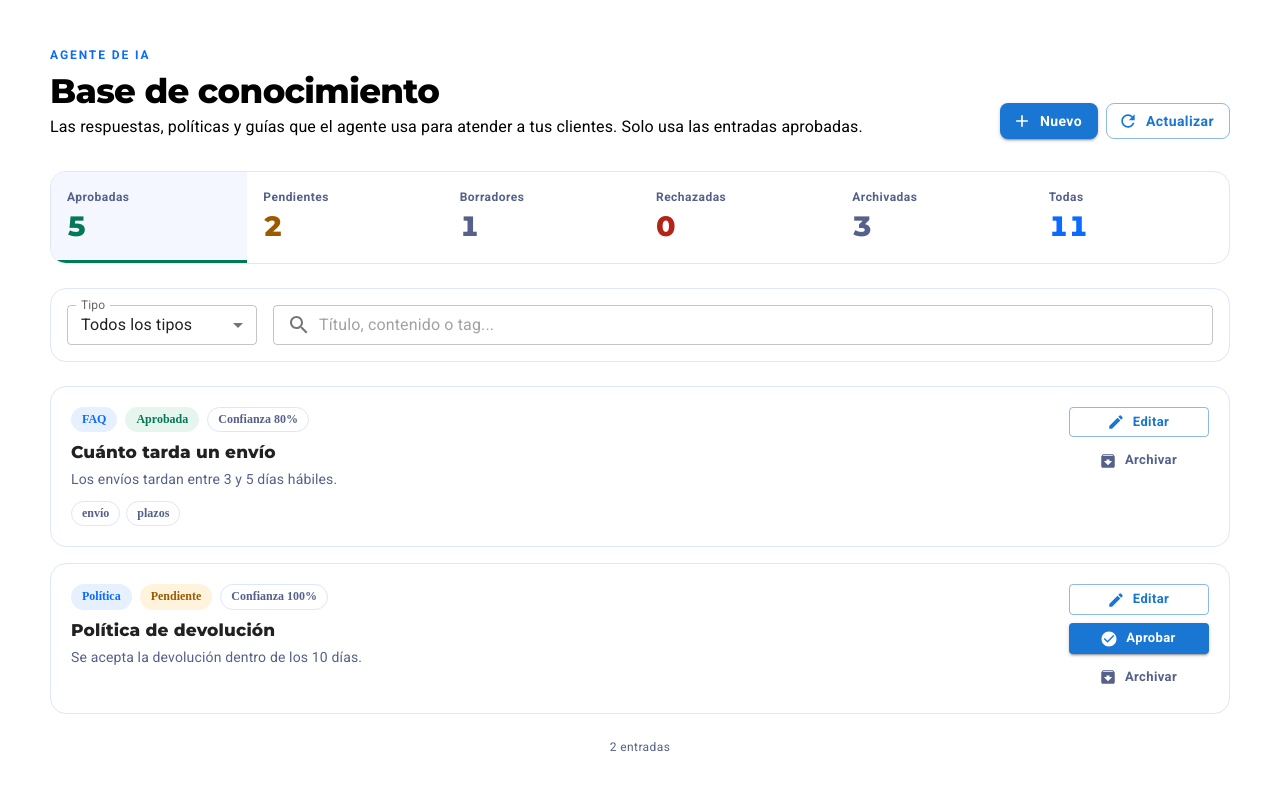
Test: Conocimiento · consulta › «Limpiar filtros» solo aparece con filtros y vuelve a lo aprobado, de todos los tipos, sin búsqueda
expect the button "Limpiar filtros" is not shown: met
What coordinates should you click on to do the following:
click the button "Pendientes 2"
I would click on:
 (345, 217)
Its box is [247,172,444,262].
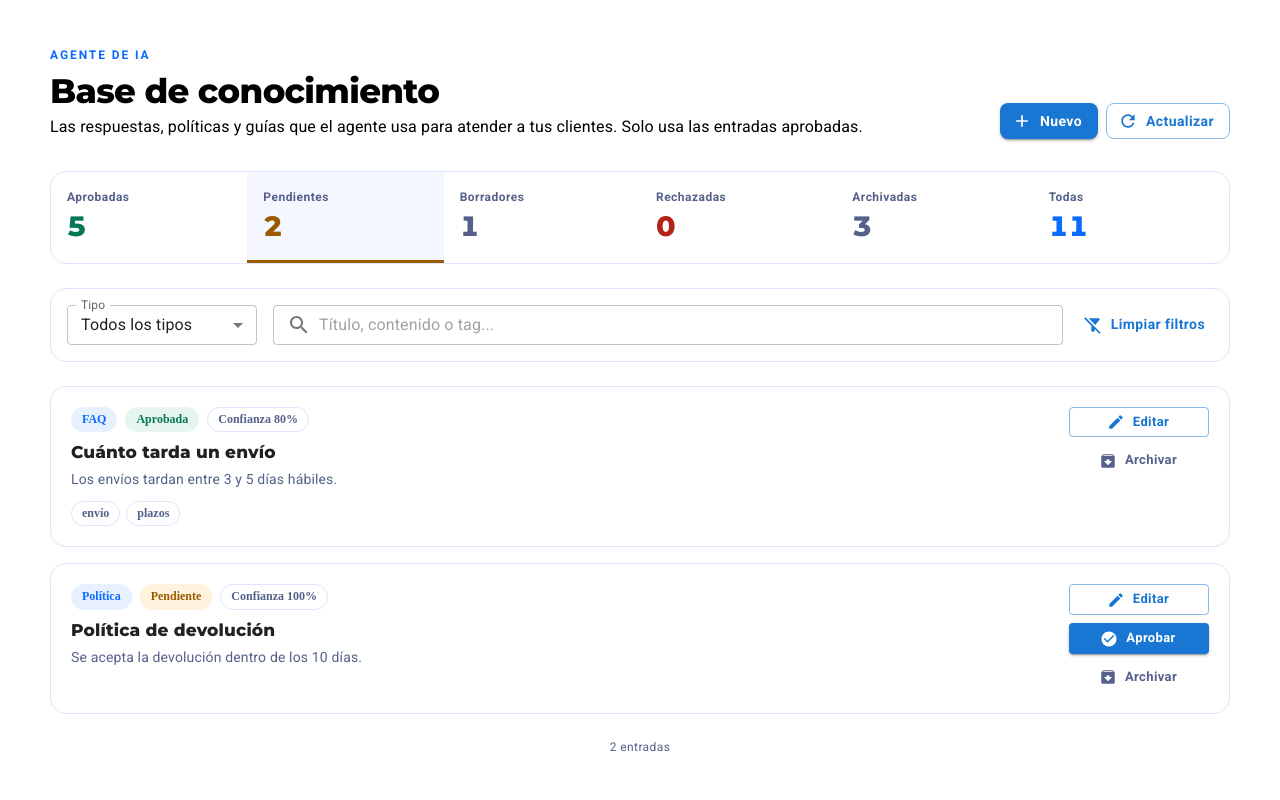
What coordinates should you click on to do the following:
click the button "Limpiar filtros"
I would click on:
 (1146, 325)
Its box is [1079,306,1213,343].
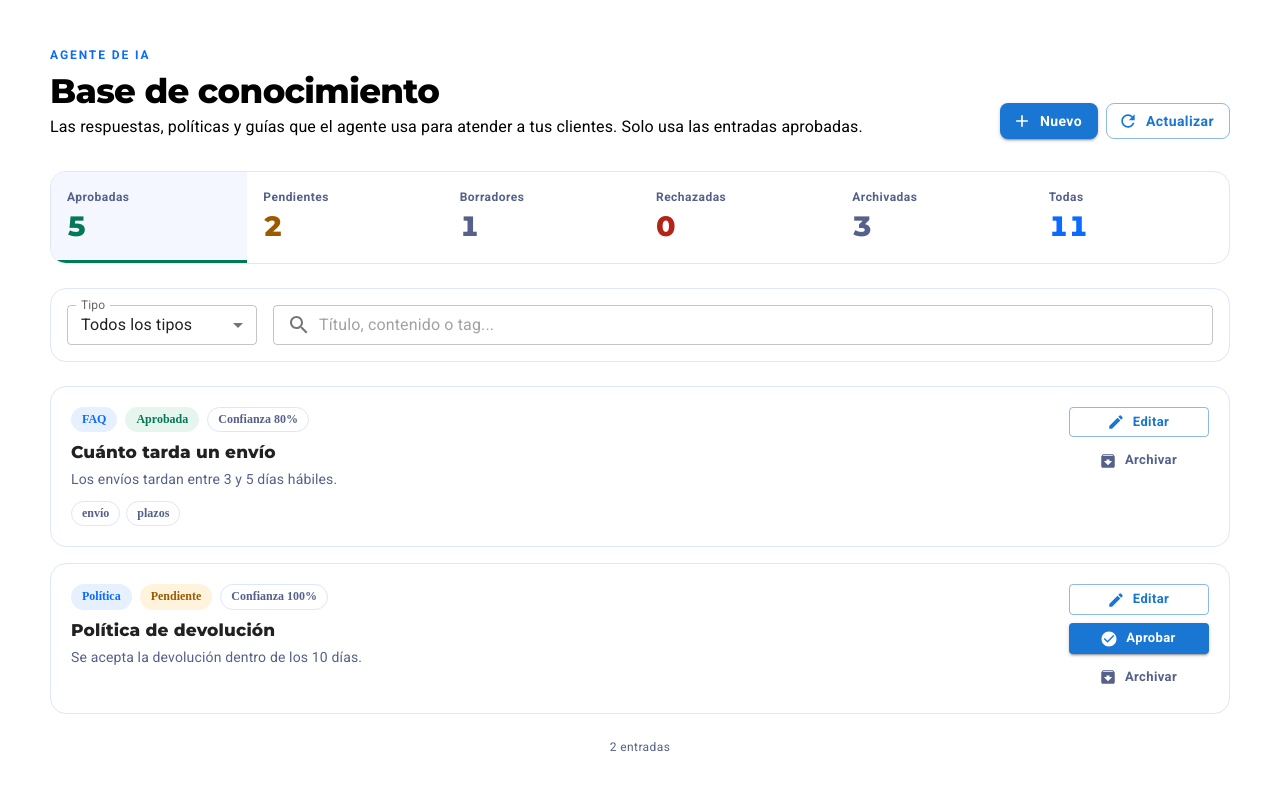
expect the button "Limpiar filtros" is gone: met
